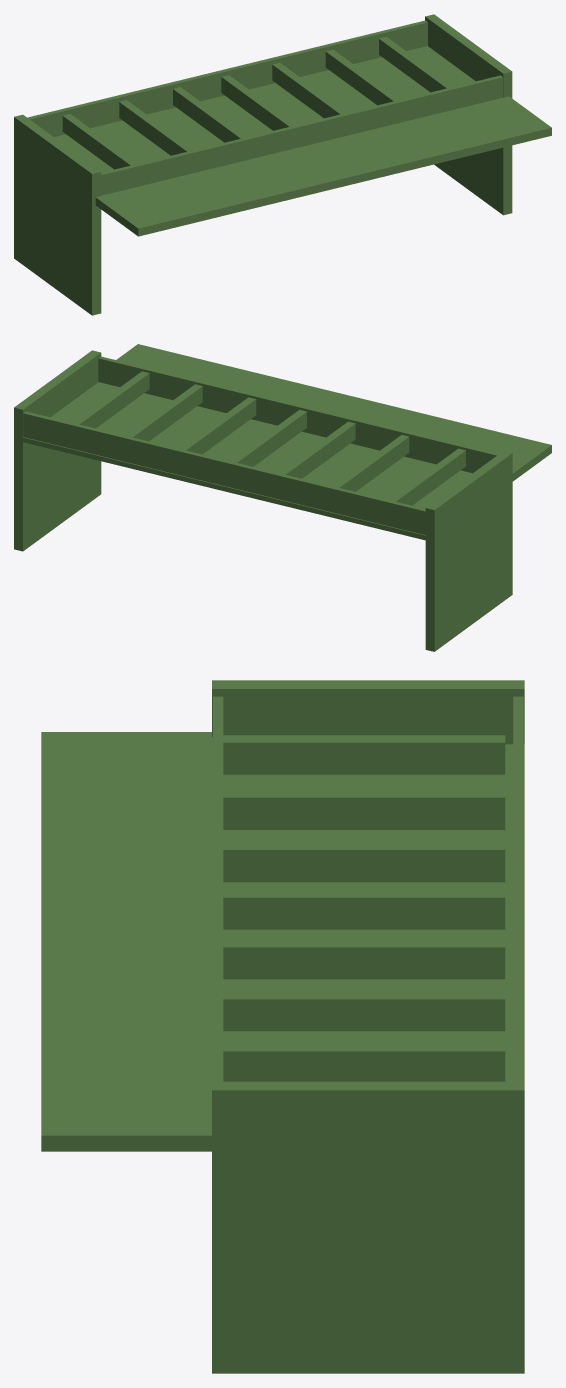
Rendered from saladbar.fbx.
3 views of the same model, one above another, from view 1: azimuth 30°, elevation 25°; view 2: azimuth 150°, elevation 25°; view 3: azimuth 270°, elevation 25° (orthographic). The views are drawn at different scales.
Parts seen in each view (by area): view 1: Cube; view 2: Cube; view 3: Cube.
Boxes of the visible parts, box(x1,y1,x2,y2) form: Cube: box(14, 14, 551, 315); Cube: box(14, 344, 551, 651); Cube: box(41, 680, 524, 1373).
Bounding box in the file's own units: 549 × 177 × 273.
